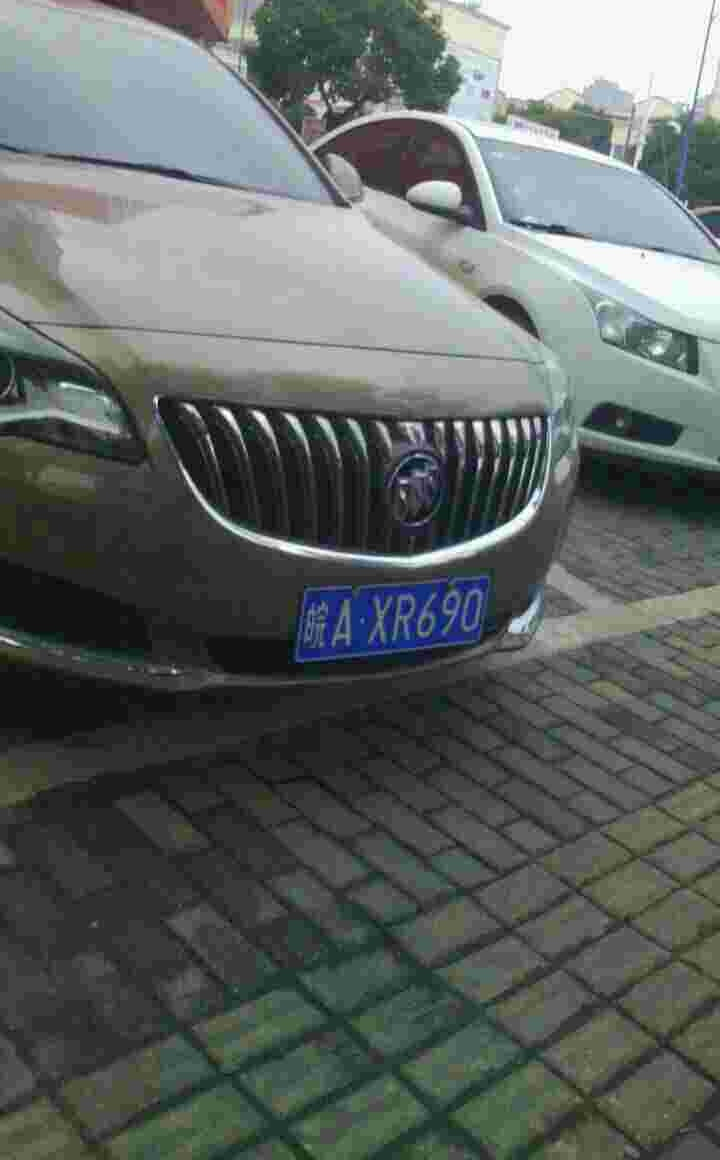license_plate: (292, 575, 490, 666)
